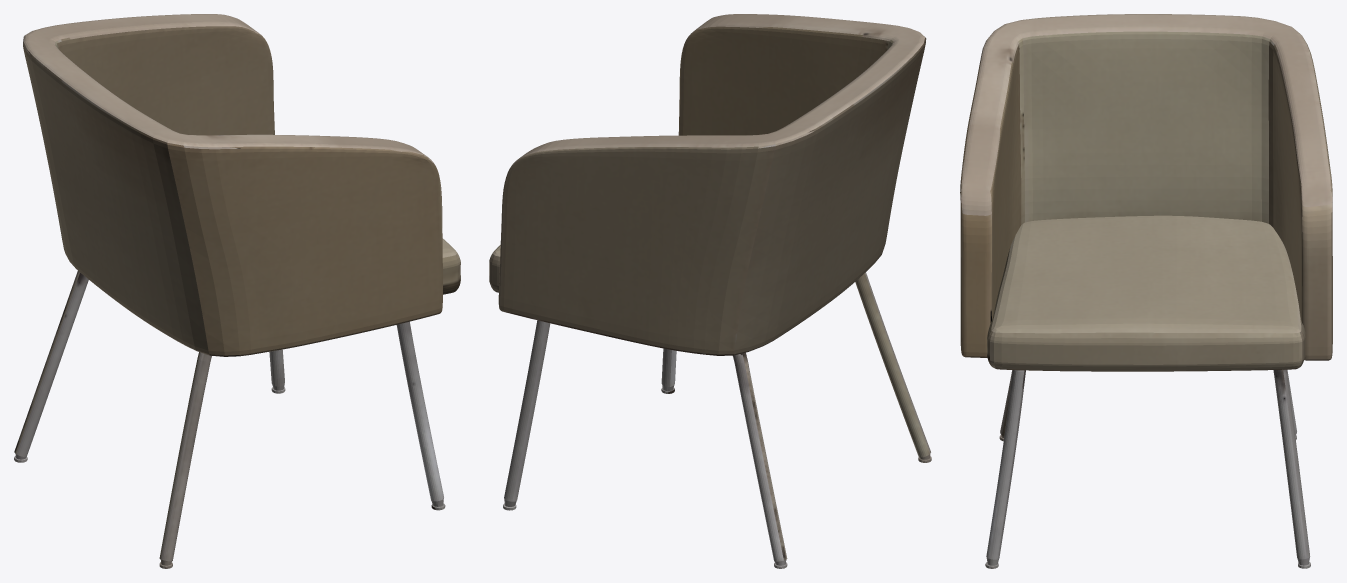
3 views of the same model, side by side, from view 1: azimuth 30°, elevation 25°; view 2: azimuth 150°, elevation 25°; view 3: azimuth 270°, elevation 25° (orthographic). The views are drawn at different scales.
Visible parts, largest first — view 1: Node; view 2: Node; view 3: Node.
Part boxes in pixels (box(x1,y1,x2,y2)): Node: box(14, 14, 460, 568); Node: box(489, 14, 931, 568); Node: box(960, 14, 1332, 568).
Bounding box in the file's own units: 0.5345 × 0.7 × 0.5644.
1 material, 1 textured.
